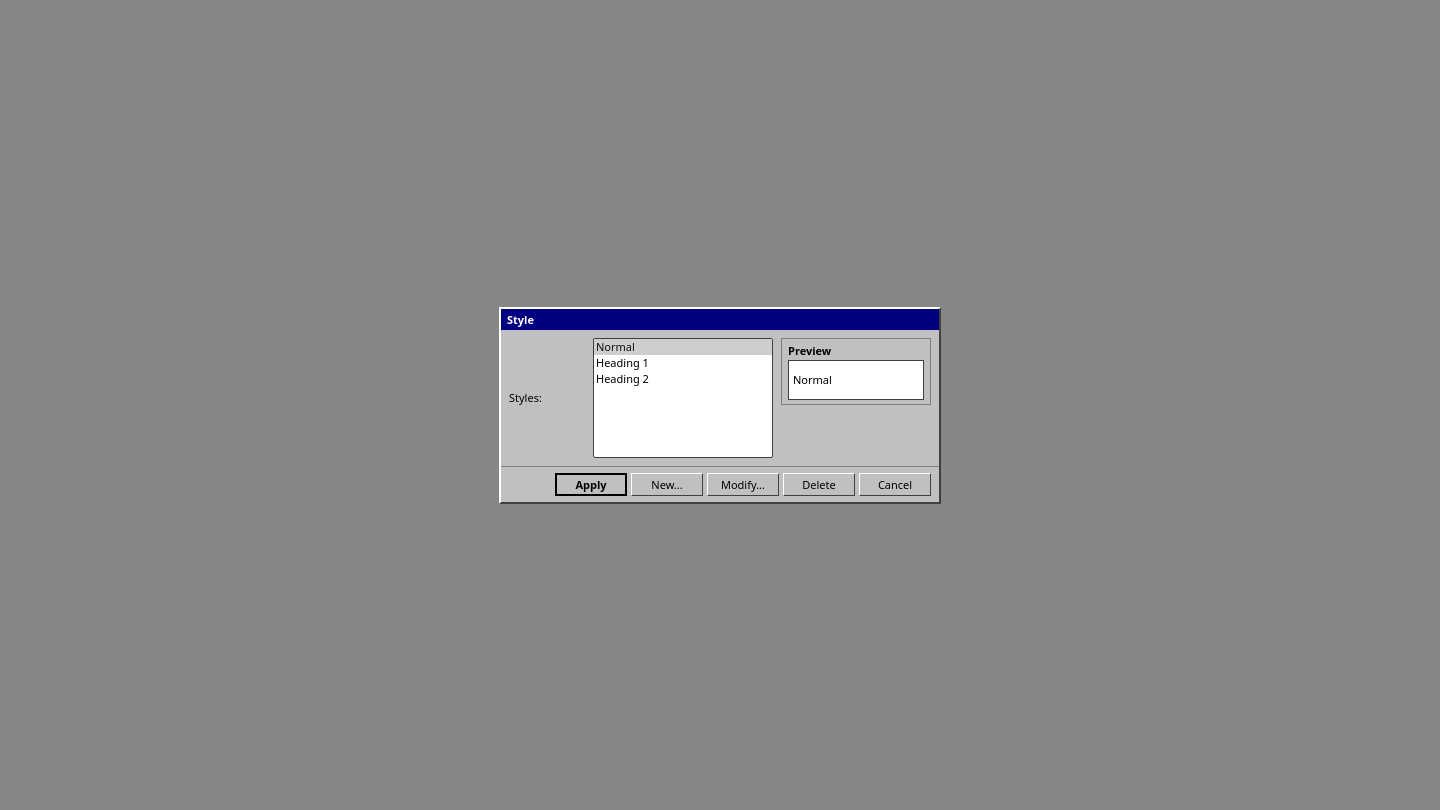
it: StyleDialog › New/Modify/Delete buttons show warning toast and do not close
Step 1. Click the button "New..." → (667, 484), box [631,472,703,496]
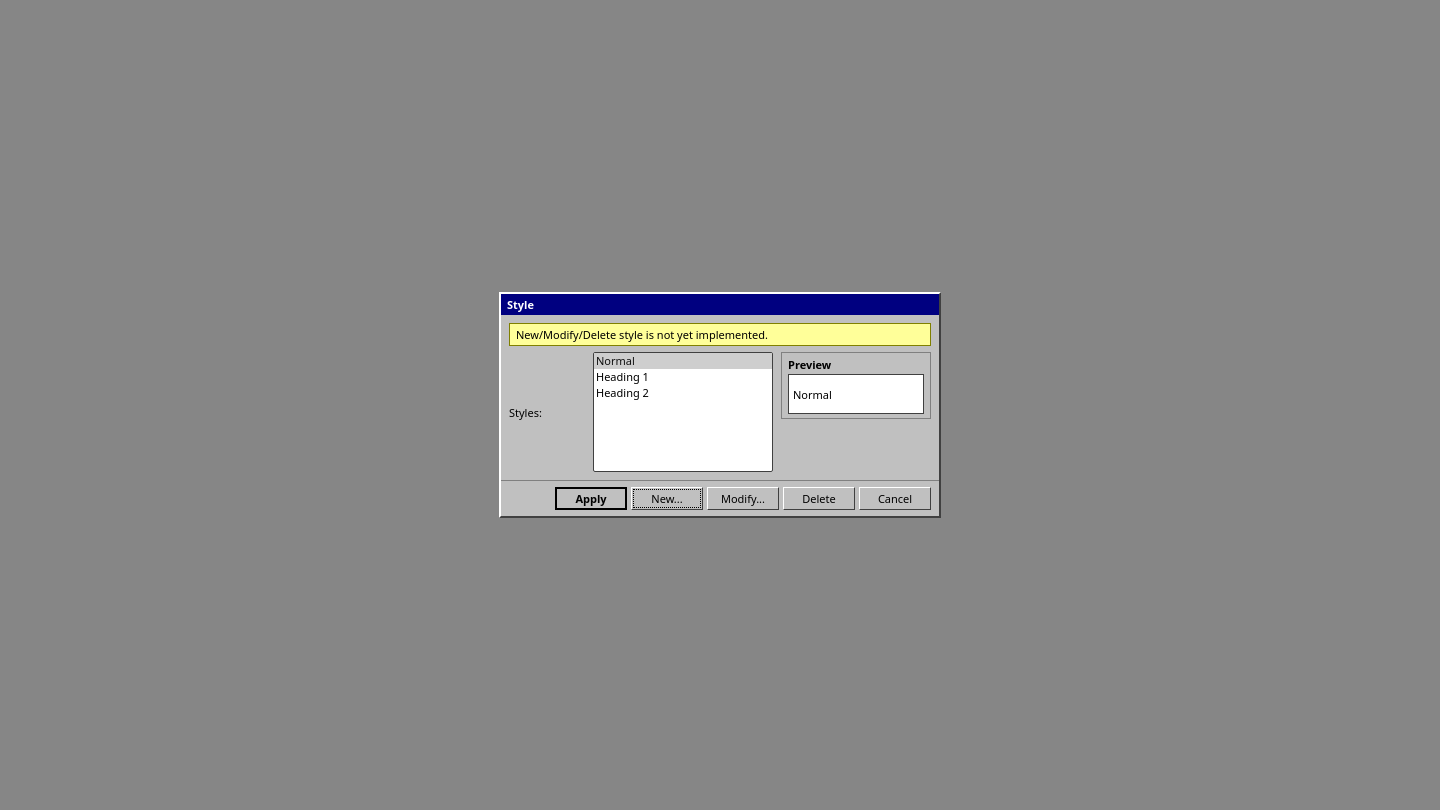
Check: the message "New/Modify/Delete style is not yet implemented." is shown, box [509,323,931,346]
